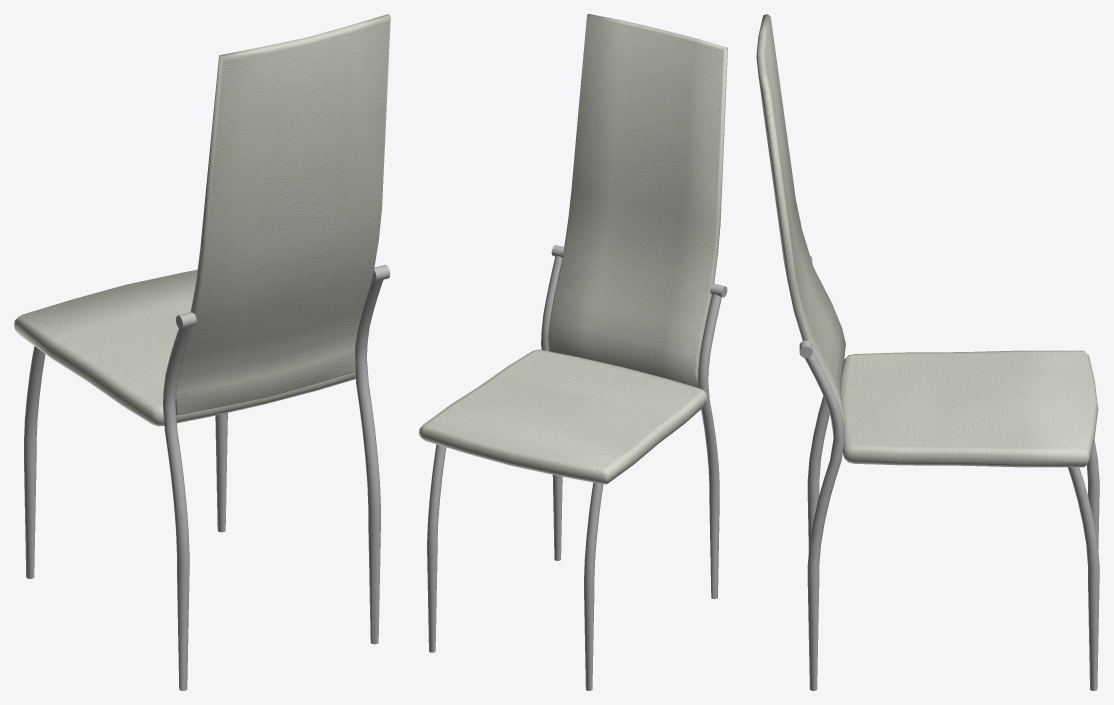
File: chair_A_c01.fbx
3 renders of one model, left to right at view 1: azimuth 30°, elevation 25°; view 2: azimuth 150°, elevation 25°; view 3: azimuth 270°, elevation 25°, orthographic. The views are drawn at different scales.
Visible parts, largest first — view 1: chair_A_c01; view 2: chair_A_c01; view 3: chair_A_c01.
Part boxes in pixels (box(x1,y1,x2,y2)): chair_A_c01: box(14, 14, 390, 690); chair_A_c01: box(419, 14, 727, 690); chair_A_c01: box(756, 14, 1099, 690).
Size of the model in its own units: 39.04 by 105 by 54.95.
Materials: 2 (1 with a texture image).
